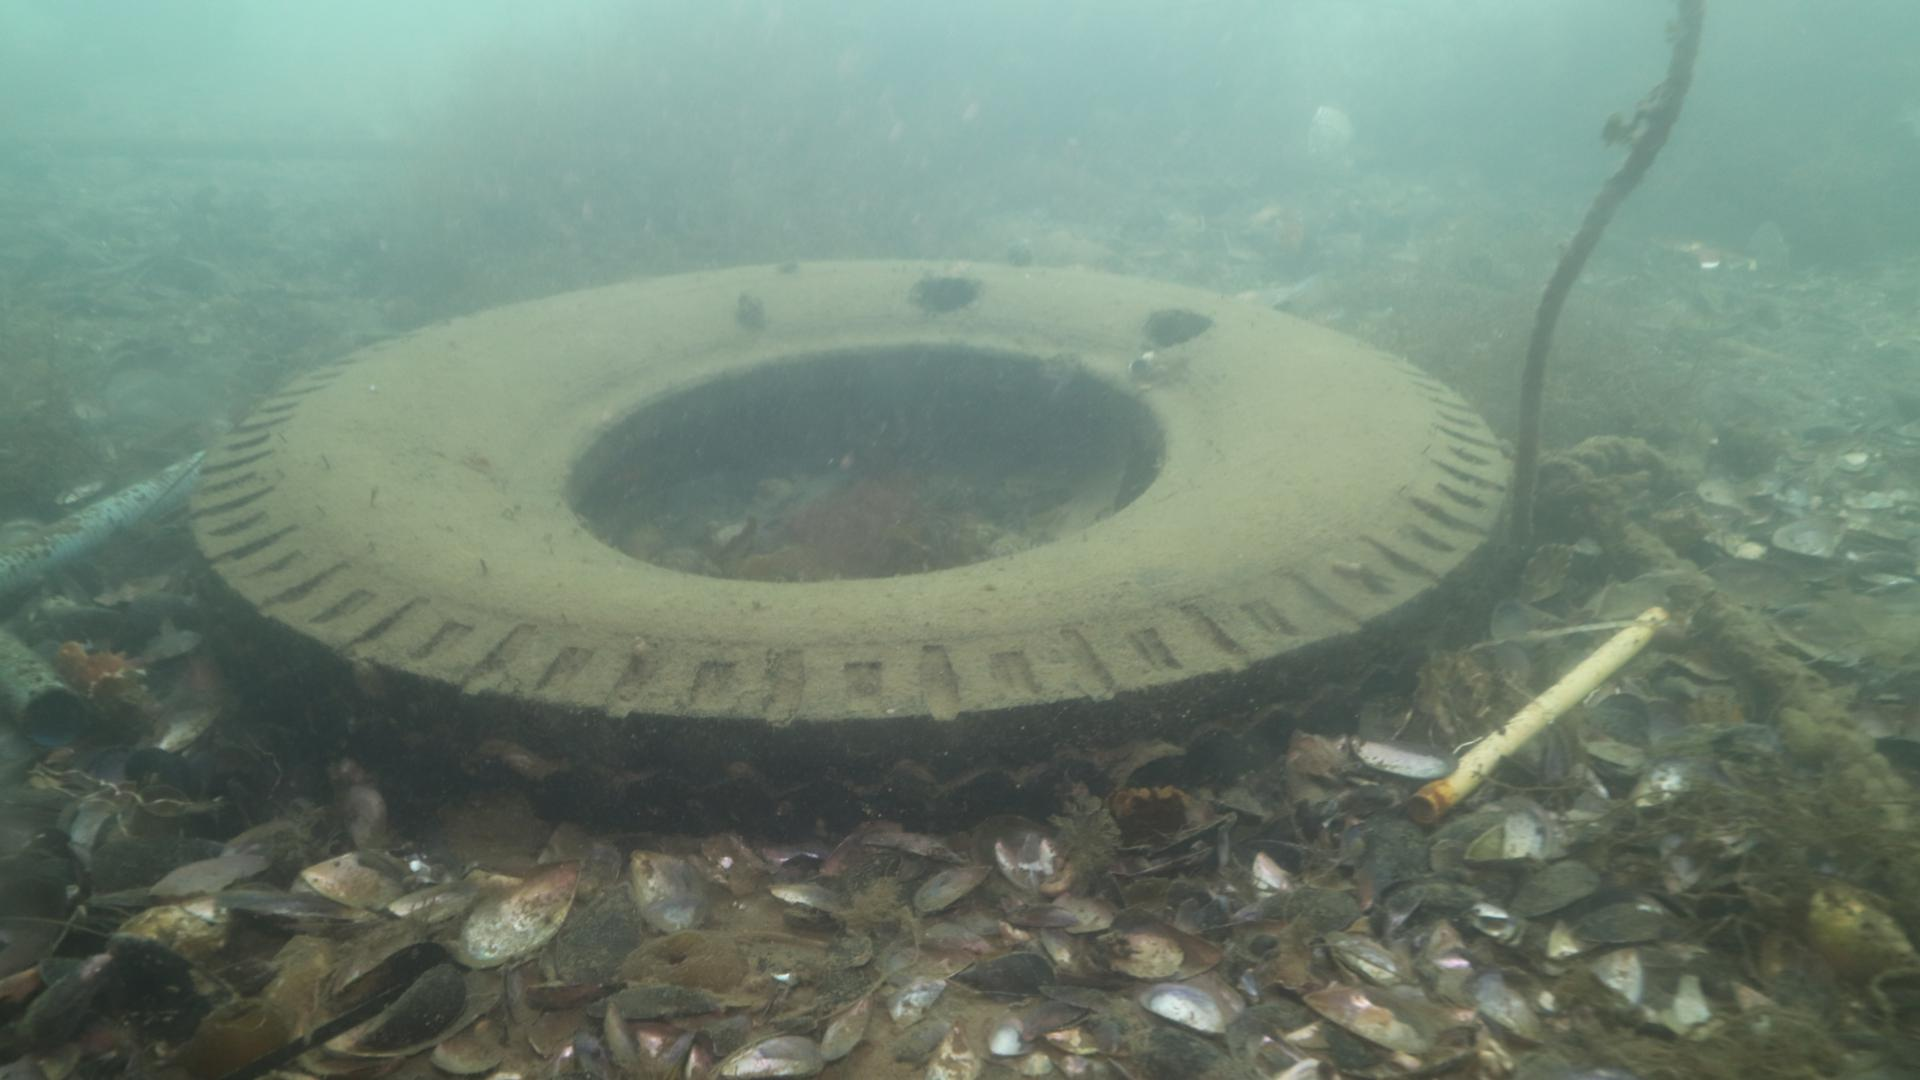rope: (1507, 0, 1701, 555)
tire: (179, 253, 1509, 837)
